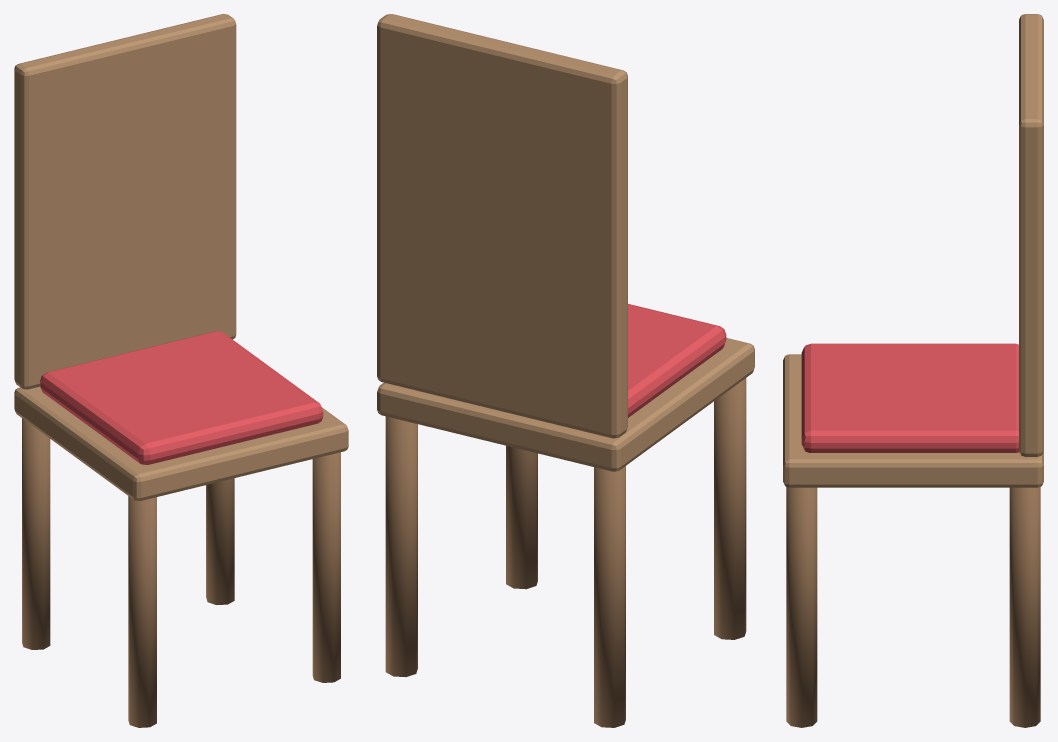
File: Chair.fbx
3 views of the same model, side by side, from view 1: azimuth 30°, elevation 25°; view 2: azimuth 150°, elevation 25°; view 3: azimuth 270°, elevation 25° (orthographic). The views are drawn at different scales.
Parts seen in each view (by area): view 1: Chair; view 2: Chair; view 3: Chair.
Part boxes in pixels (bbox=[...]): Chair: bbox=[14, 14, 348, 727]; Chair: bbox=[377, 14, 754, 727]; Chair: bbox=[783, 14, 1043, 727].
Size of the model in its own units: 42 by 108 by 42.
